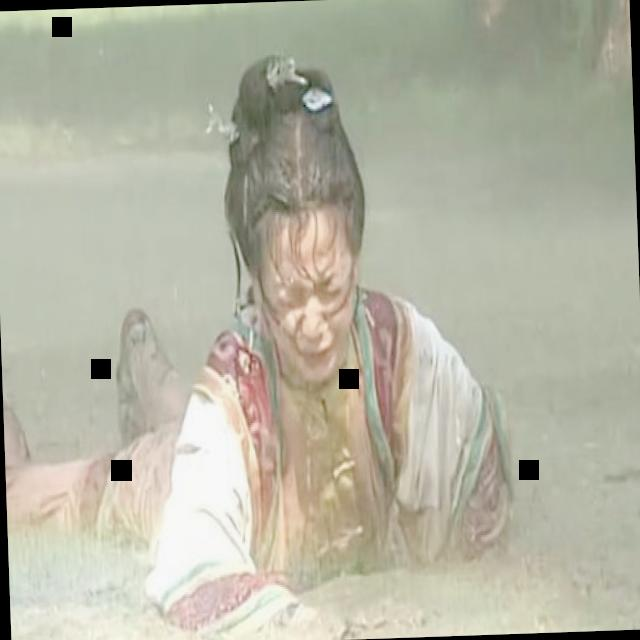Fall-Detected: (0, 3, 538, 640)
